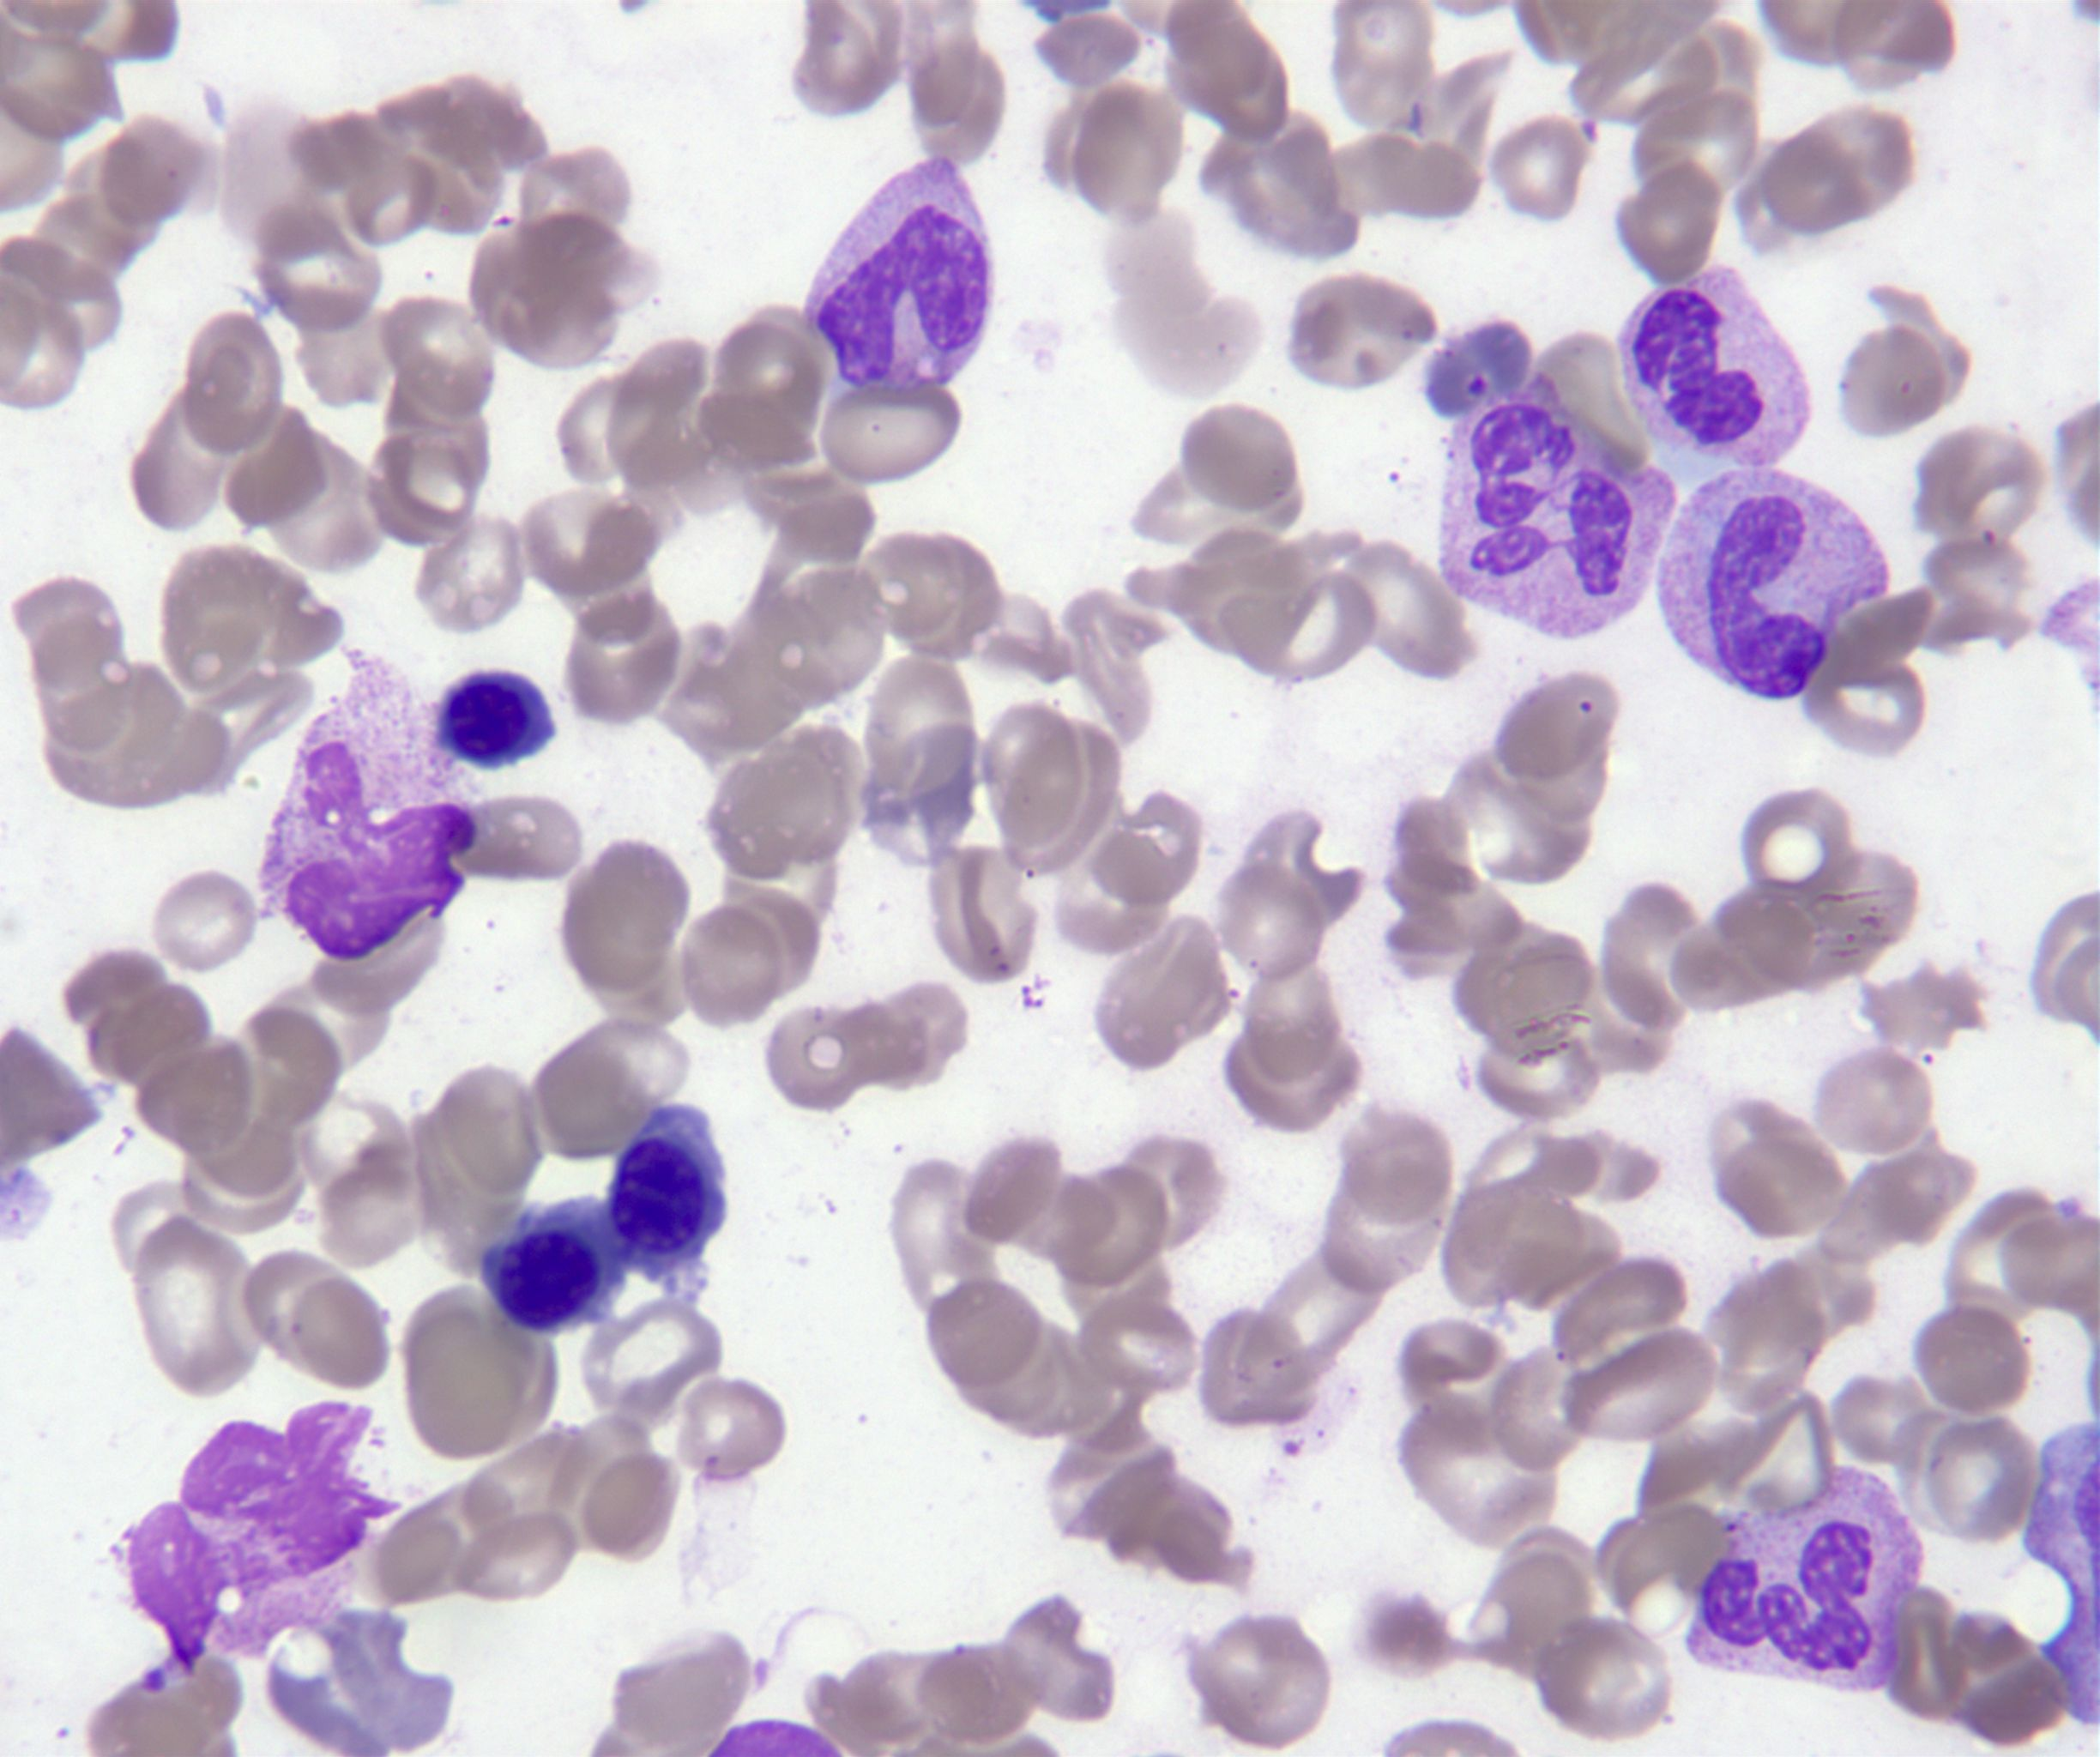24: (609, 1104, 726, 1305), (480, 1199, 624, 1333), (436, 670, 558, 768)
5: (1657, 471, 1891, 703), (809, 161, 992, 387)
6: (1439, 394, 1674, 639), (1687, 1466, 1920, 1691), (1624, 265, 1810, 471)
x: (110, 1396, 405, 1678), (260, 649, 476, 960)
